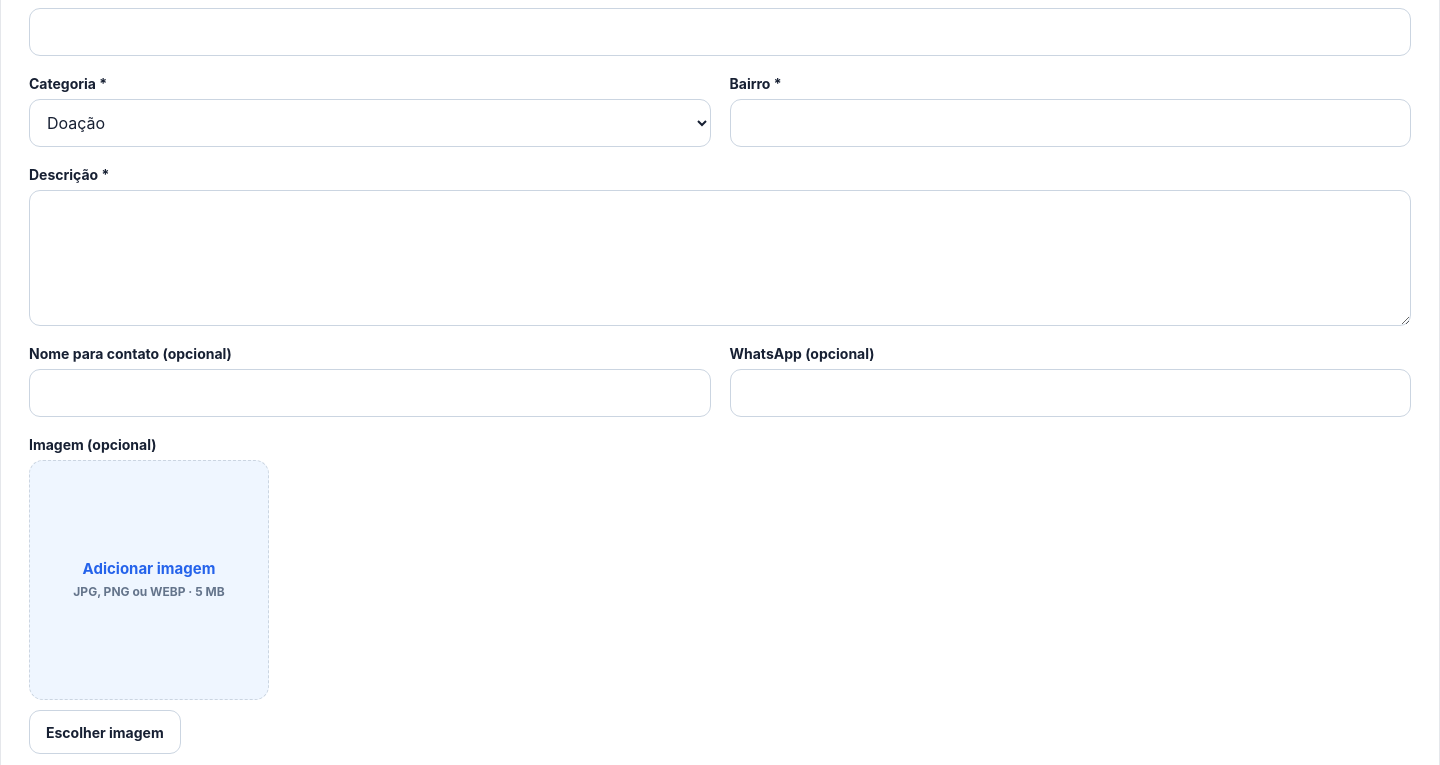
Test: AnnouncementForm › requires authorization before publishing
In the field labelled "Título *": (720, 32) [29,8,1411,56], type "Doação de livros"
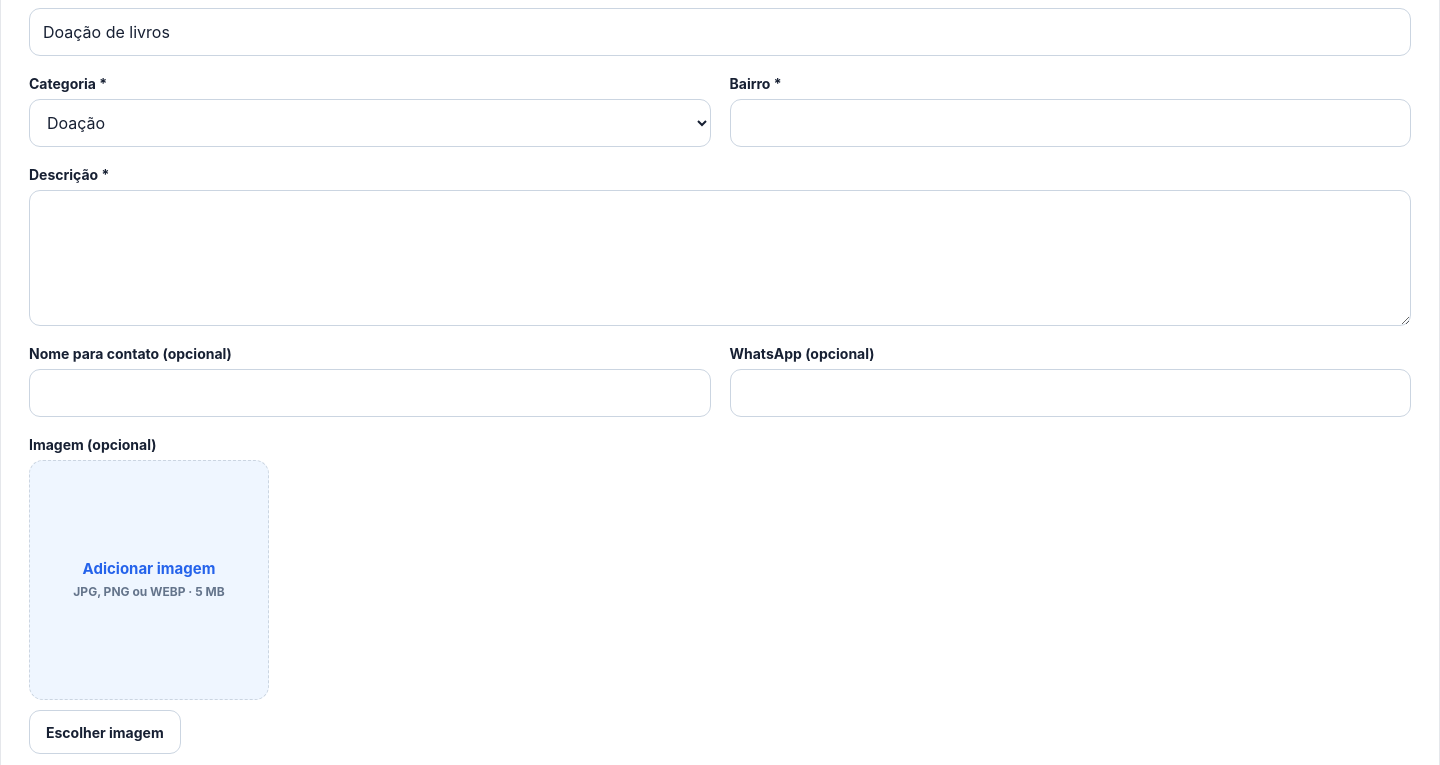
In the field labelled "Bairro *": (1070, 123) [730,99,1411,147], type "Centro"
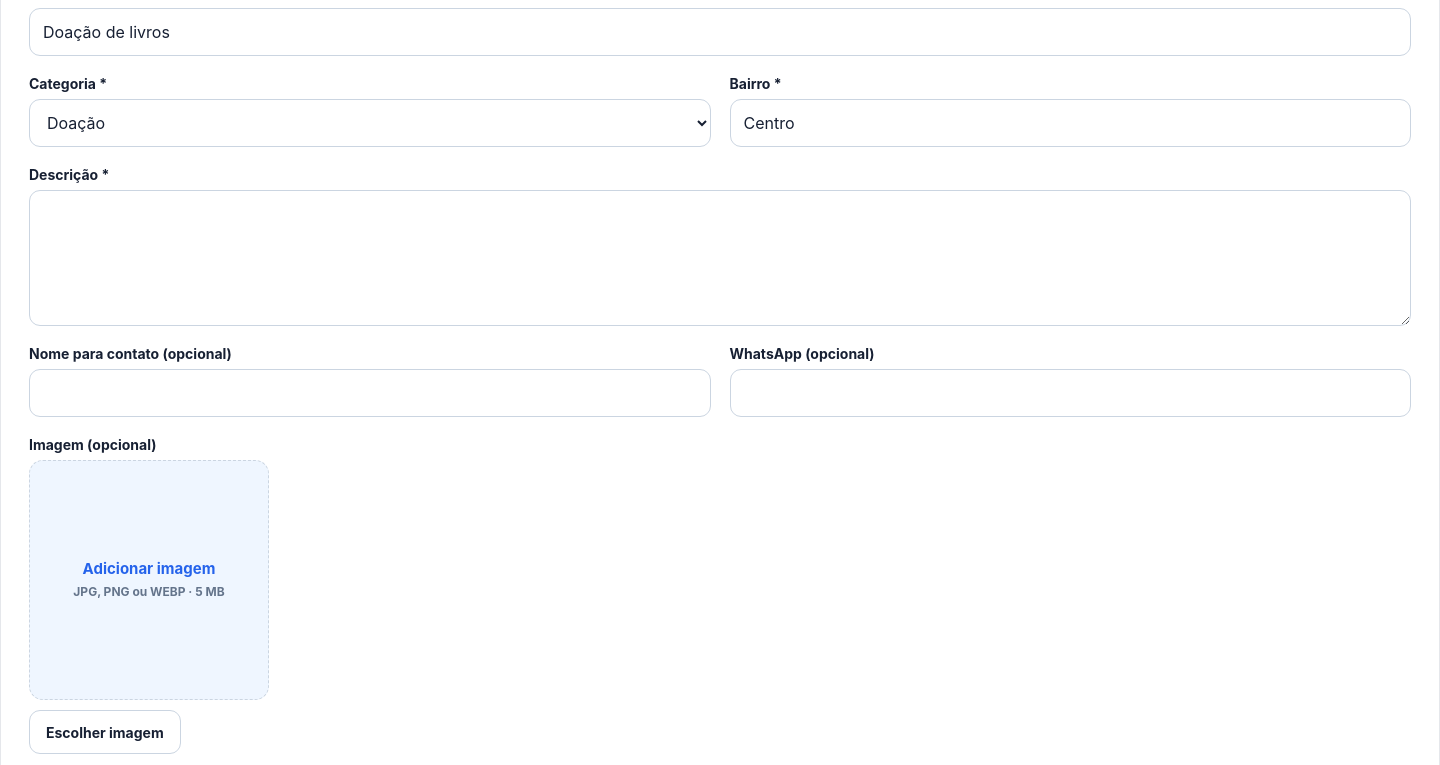
In the text box labelled "Descrição *": (720, 258) [29,190,1411,326], type "Livros em bom estado para retirada."
(page scrolled)
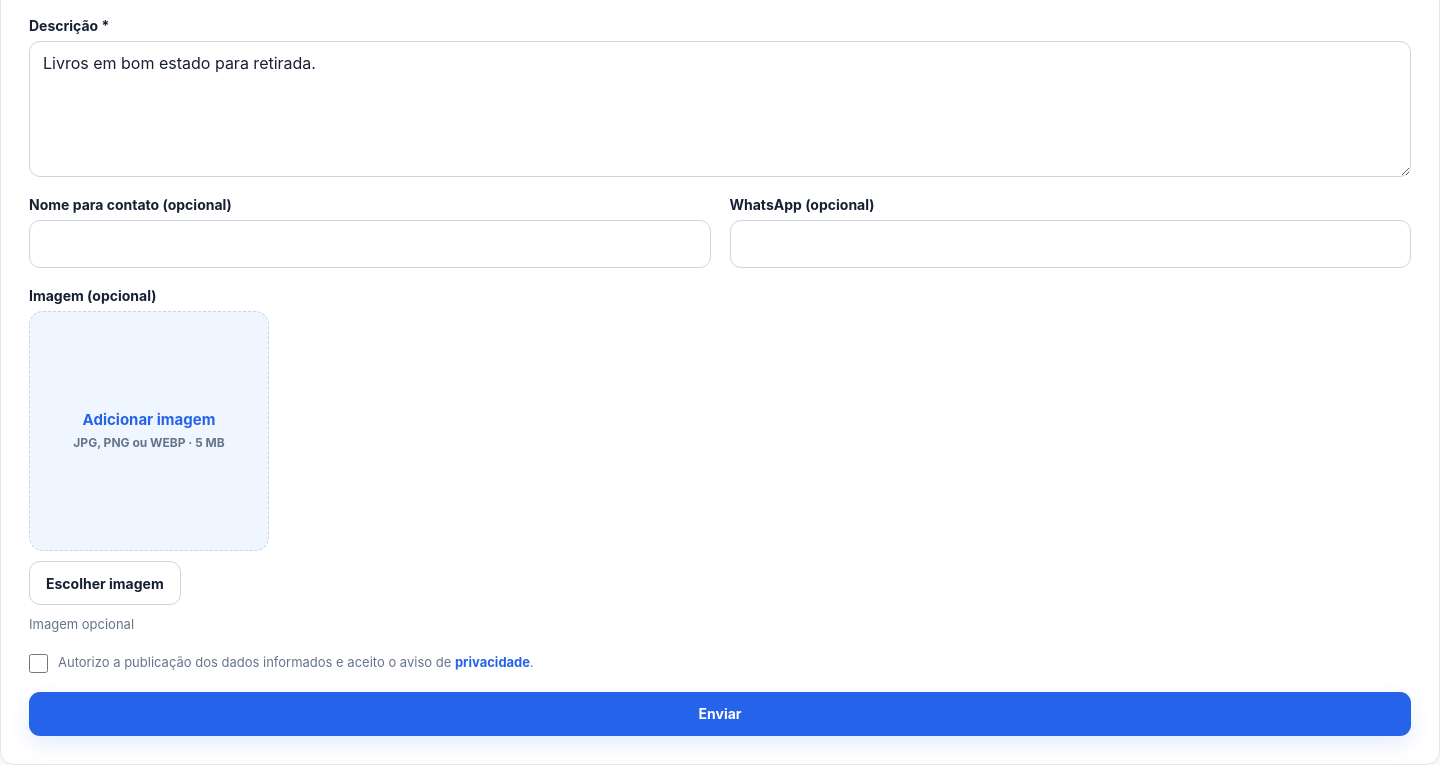
Click the button "Enviar": (720, 714) [29,692,1411,736]
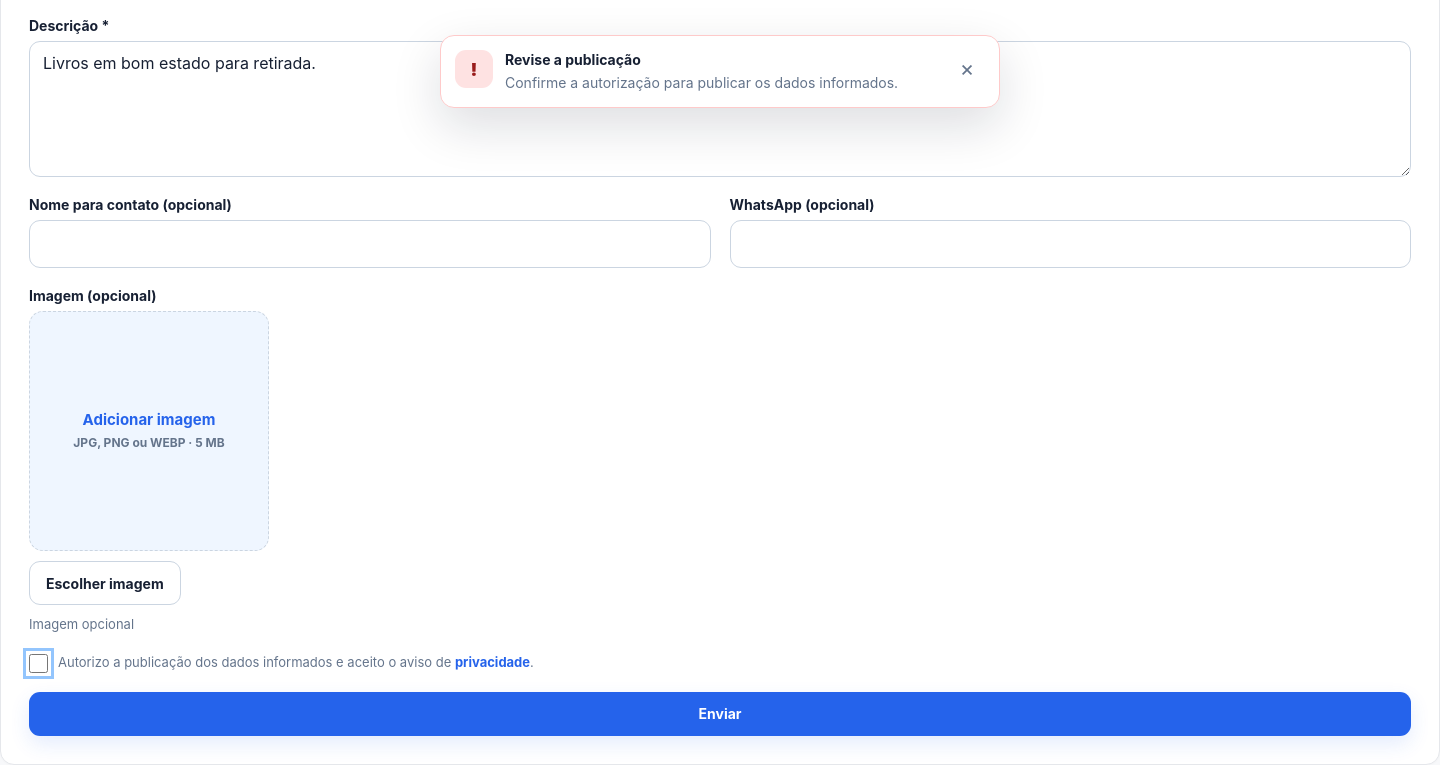
Check: the text "Confirme a autorização para publicar os dados informados." is shown, box [505,72,937,93]
